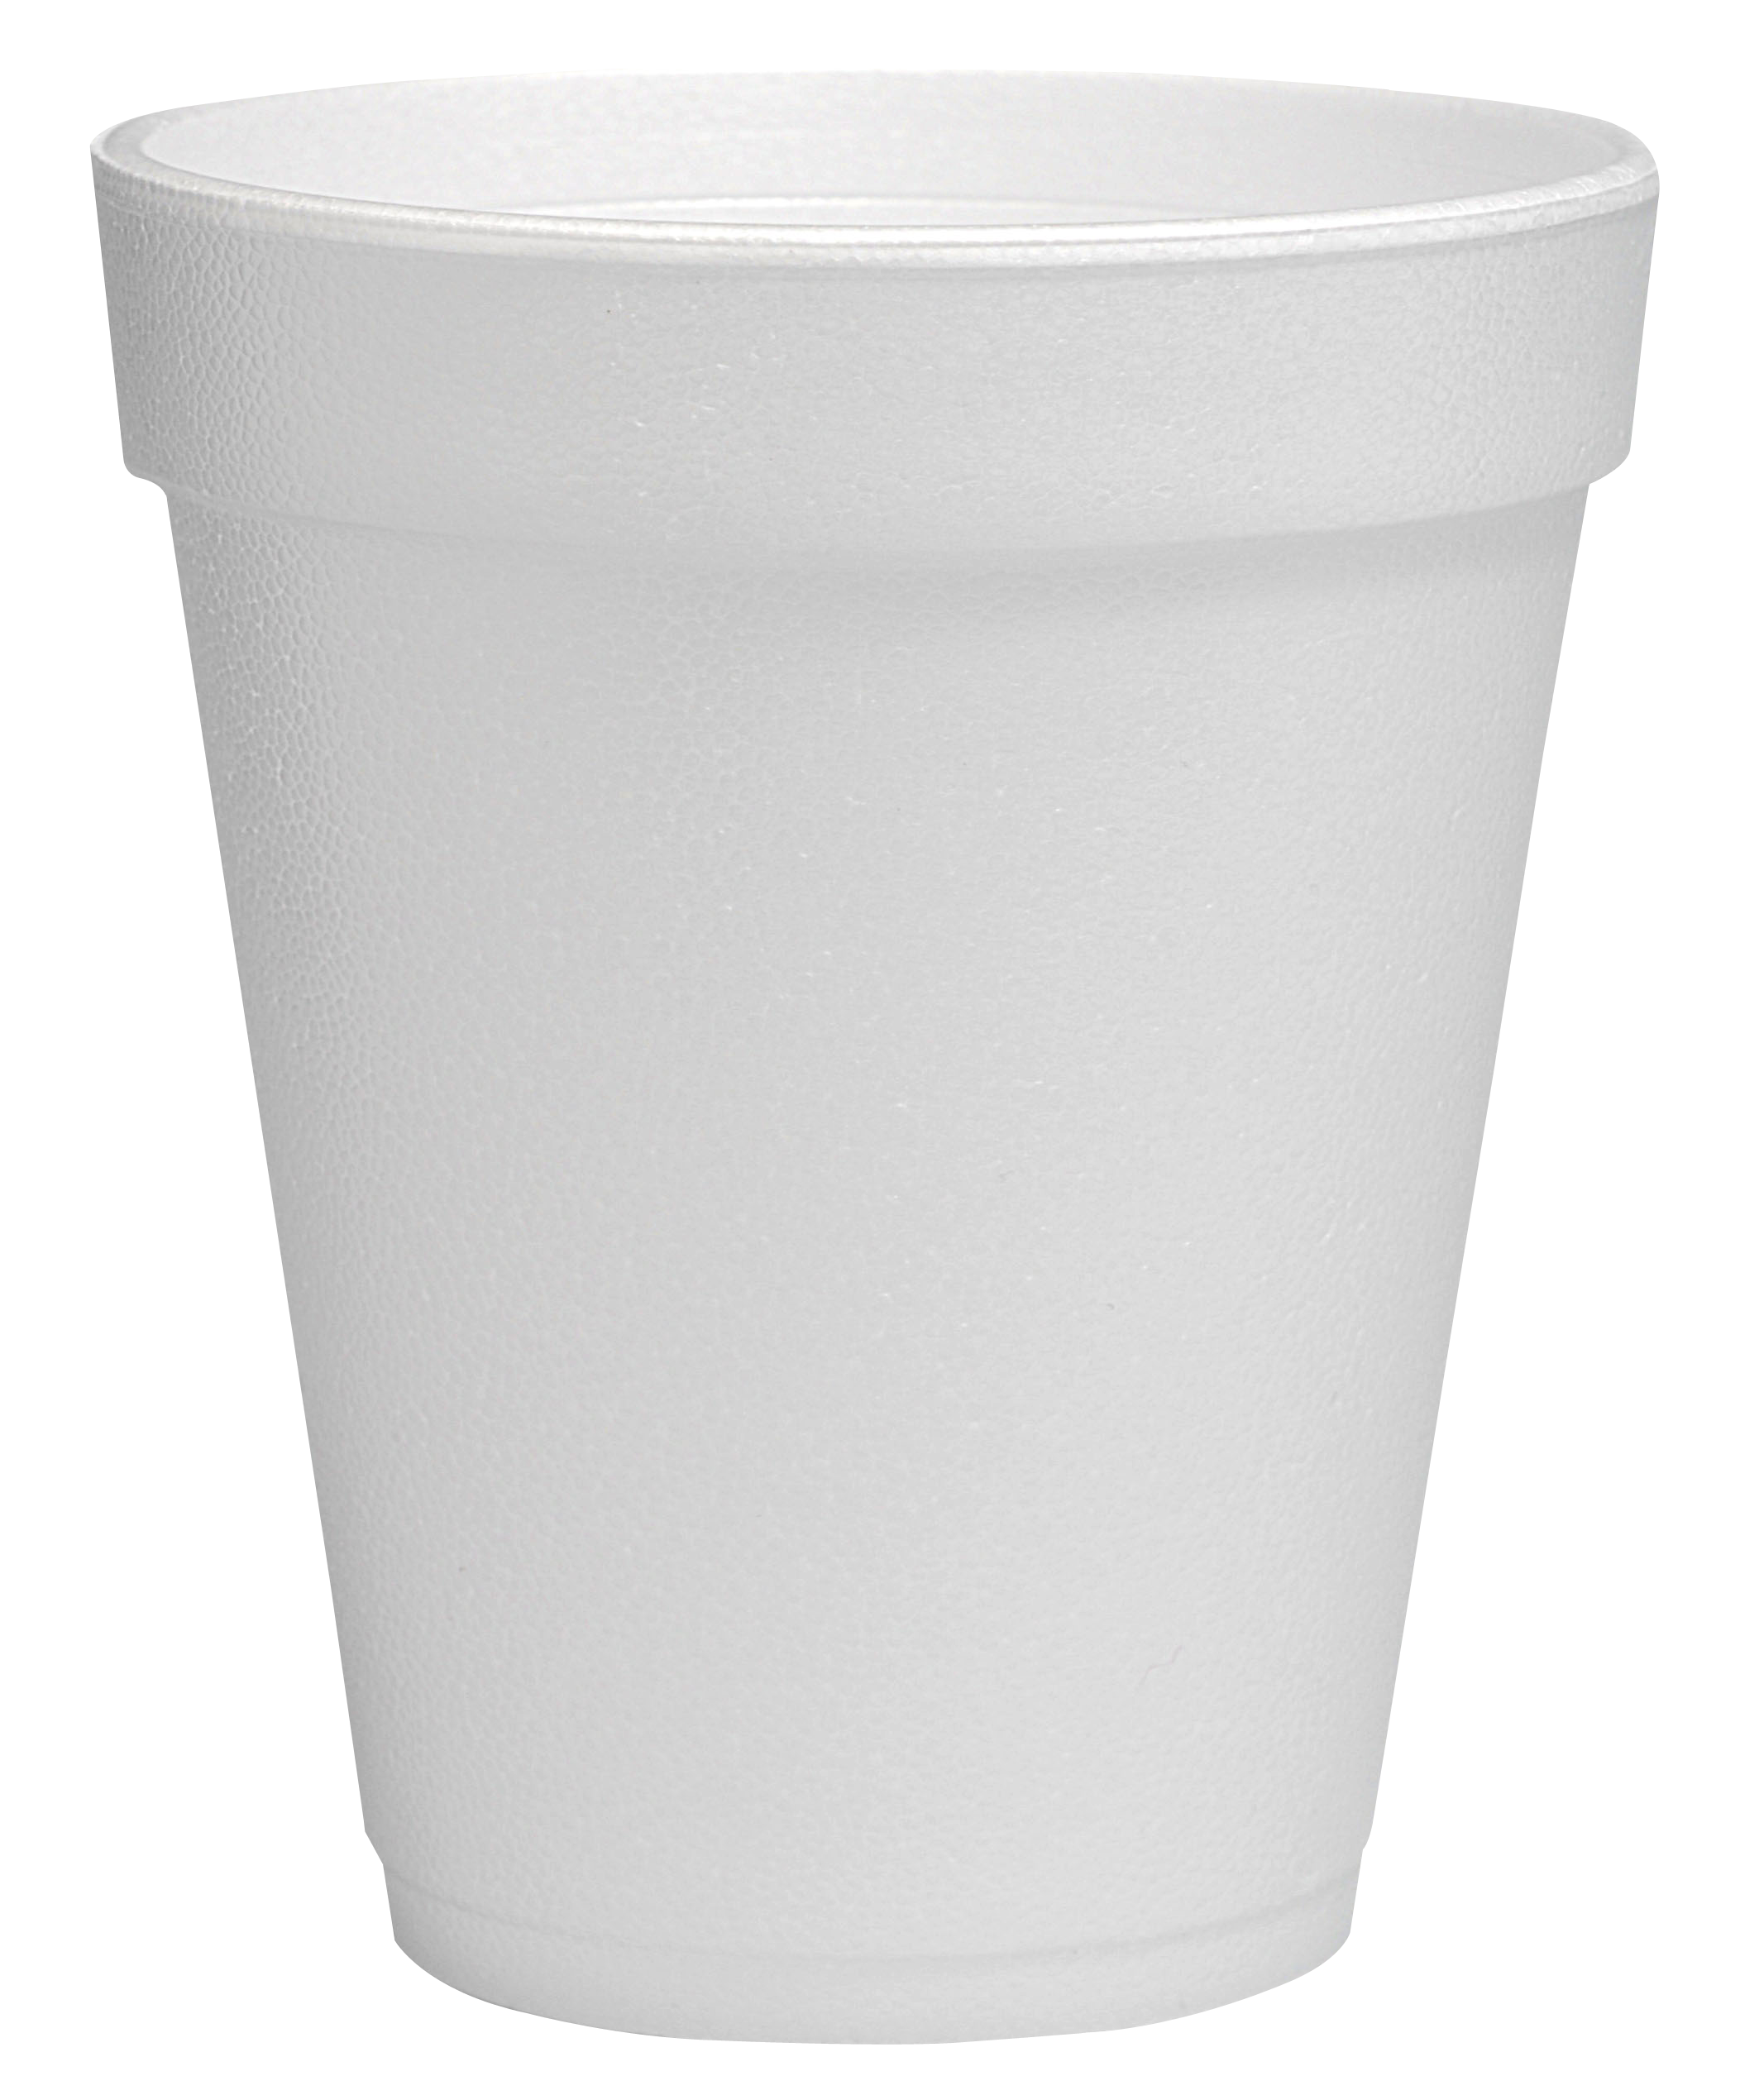plastic_glass: (71, 37, 1675, 2060)
